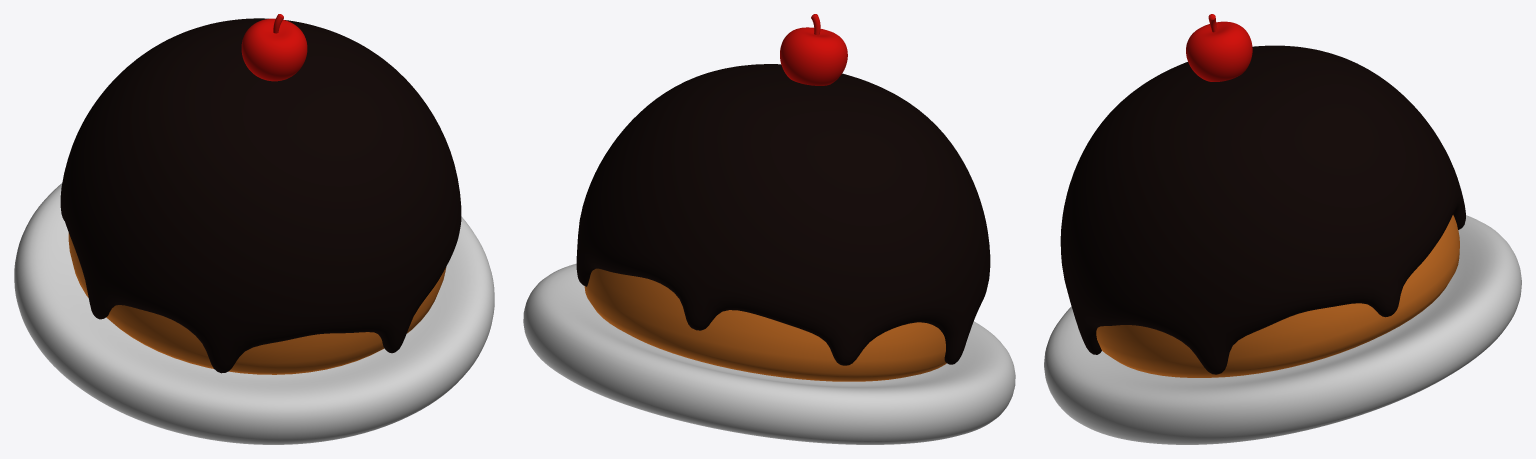
File: Pudding.obj
3 views of the same model, side by side, from view 1: azimuth 30°, elevation 25°; view 2: azimuth 150°, elevation 25°; view 3: azimuth 270°, elevation 25° (orthographic). The views are drawn at different scales.
Parts seen in each view (by area): view 1: Sphere.024_Sphere.050, Cylinder.038_Cylinder.095, Sphere.023_Sphere.051, Sphere.025_Sphere.049; view 2: Sphere.024_Sphere.050, Cylinder.038_Cylinder.095, Sphere.023_Sphere.051, Sphere.025_Sphere.049; view 3: Sphere.024_Sphere.050, Cylinder.038_Cylinder.095, Sphere.023_Sphere.051, Sphere.025_Sphere.049.
Part boxes in pixels (bbox=[...]): Sphere.024_Sphere.050: bbox=[60, 18, 461, 373]; Cylinder.038_Cylinder.095: bbox=[14, 183, 494, 444]; Sphere.023_Sphere.051: bbox=[68, 233, 446, 374]; Sphere.025_Sphere.049: bbox=[241, 18, 307, 81]; Sphere.024_Sphere.050: bbox=[576, 64, 990, 365]; Cylinder.038_Cylinder.095: bbox=[523, 263, 1015, 444]; Sphere.023_Sphere.051: bbox=[584, 268, 946, 381]; Sphere.025_Sphere.049: bbox=[780, 27, 847, 85]; Sphere.024_Sphere.050: bbox=[1060, 45, 1465, 374]; Cylinder.038_Cylinder.095: bbox=[1044, 215, 1521, 444]; Sphere.023_Sphere.051: bbox=[1096, 215, 1459, 377]; Sphere.025_Sphere.049: bbox=[1186, 21, 1252, 81].
Size of the model in its own units: 7.96 by 6.71 by 7.81.
